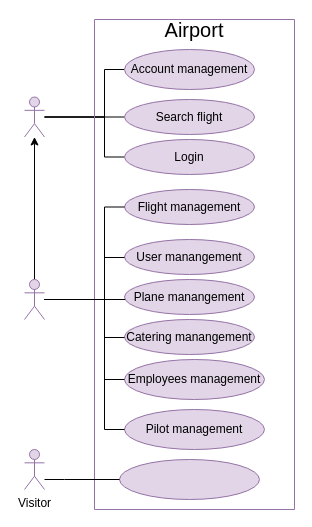
The diagram is 312 pixels wide and 527 high, and some of its shapes have lost their labels. Here are the shapes that lost their labels. From the top down, the box of each, then its label:
(24, 96, 44, 137): User
(24, 278, 44, 320): Admin
(118, 458, 260, 500): Register
